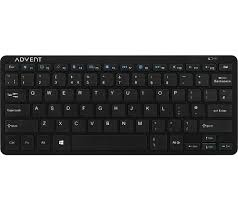keyboard: (0, 53, 238, 158)
